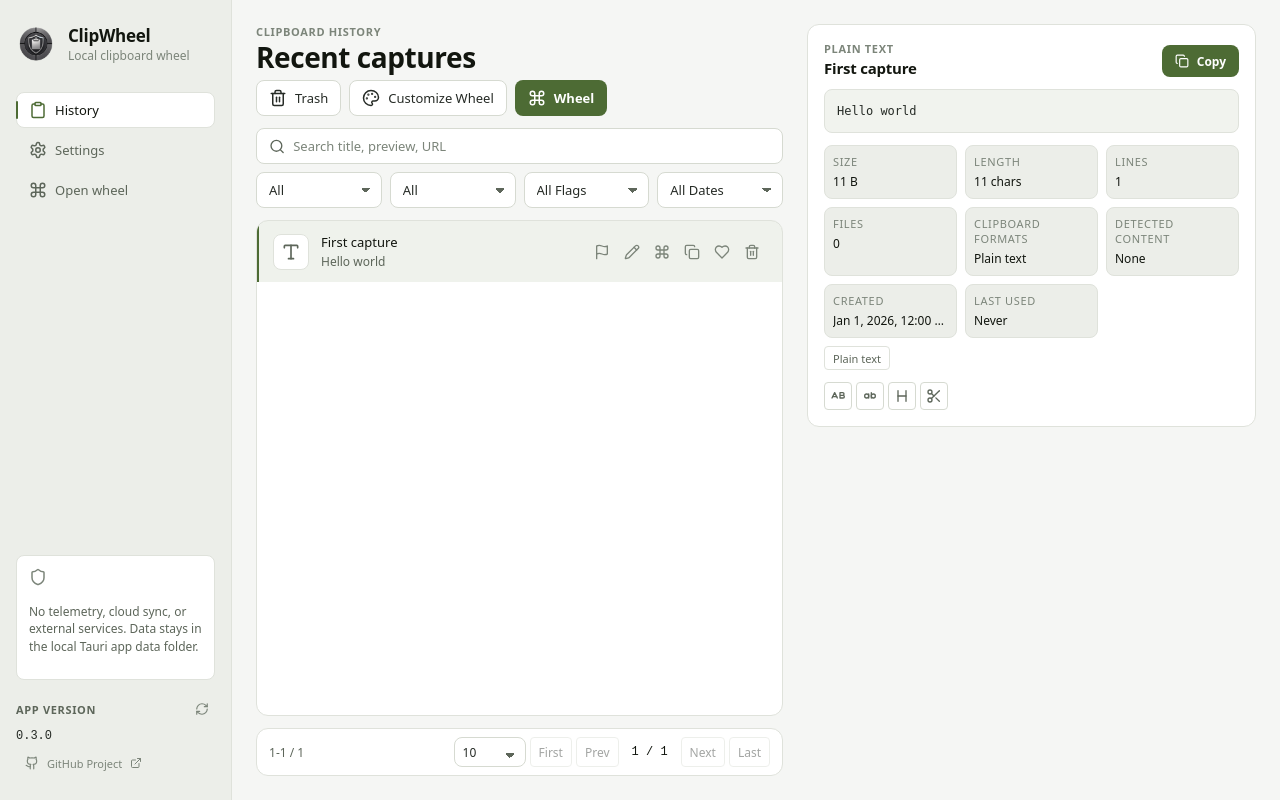
MainSurface › loads history and refetches it after a Tauri item event
The width and height of the screenshot is (1280, 800).
Click the button named "Copy" at [692, 252], box [678,238,706,266]
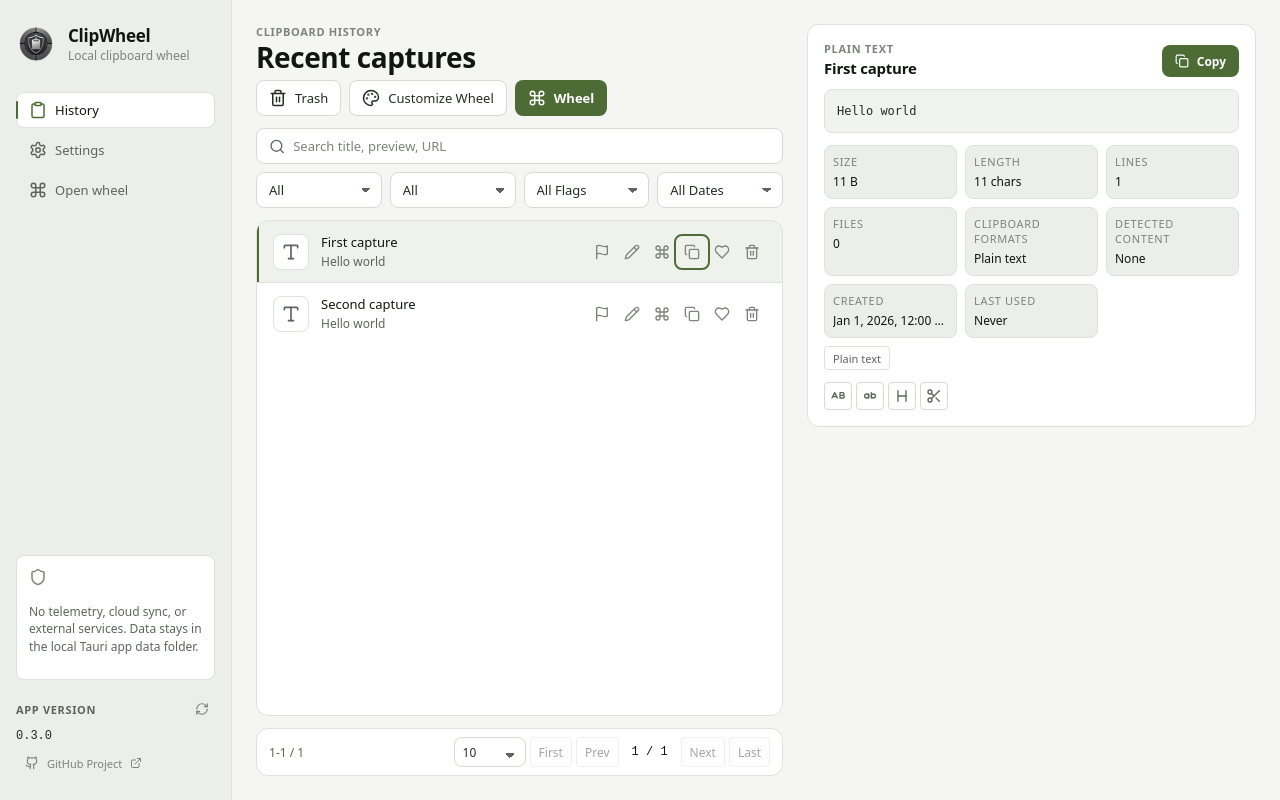
Check: the text "Second capture" is shown, box [321,295,416,313]
